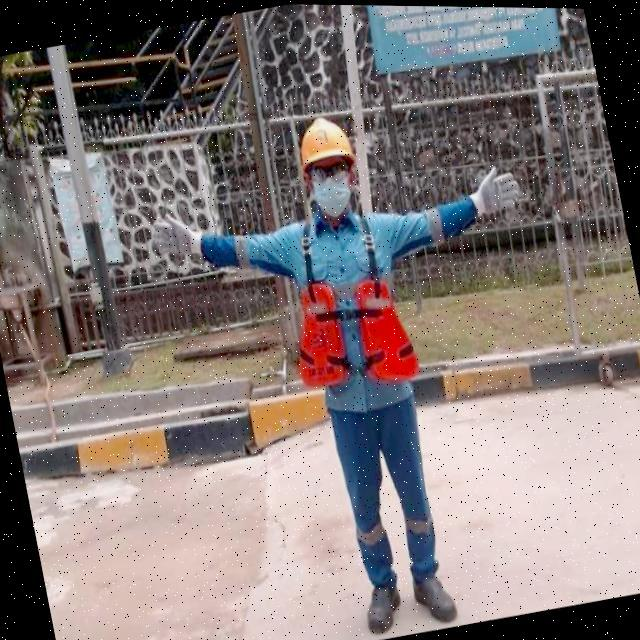goggles_on: (298, 151, 362, 198)
